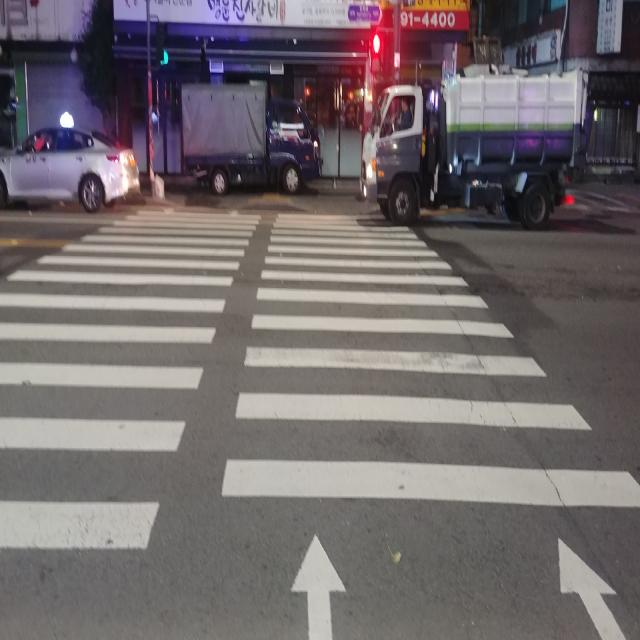빨간불: (372, 34, 381, 74)
횡단보도: (0, 206, 640, 640)
